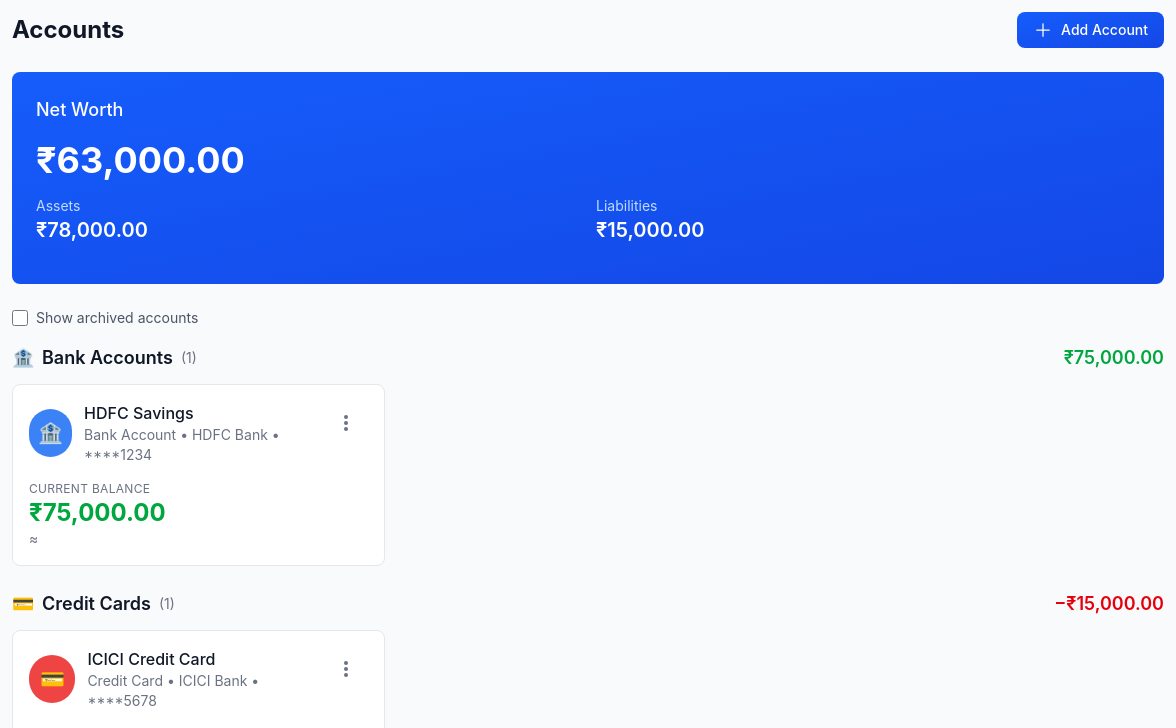
Test: AccountsPage - Account Card Menu › should show menu when clicking three dots
The width and height of the screenshot is (1176, 728).
Expected: the heading "HDFC Savings" is shown, [84,401,194,425]
Click the button without text next to "• ****1234" at (346, 423), box [324,401,368,445]
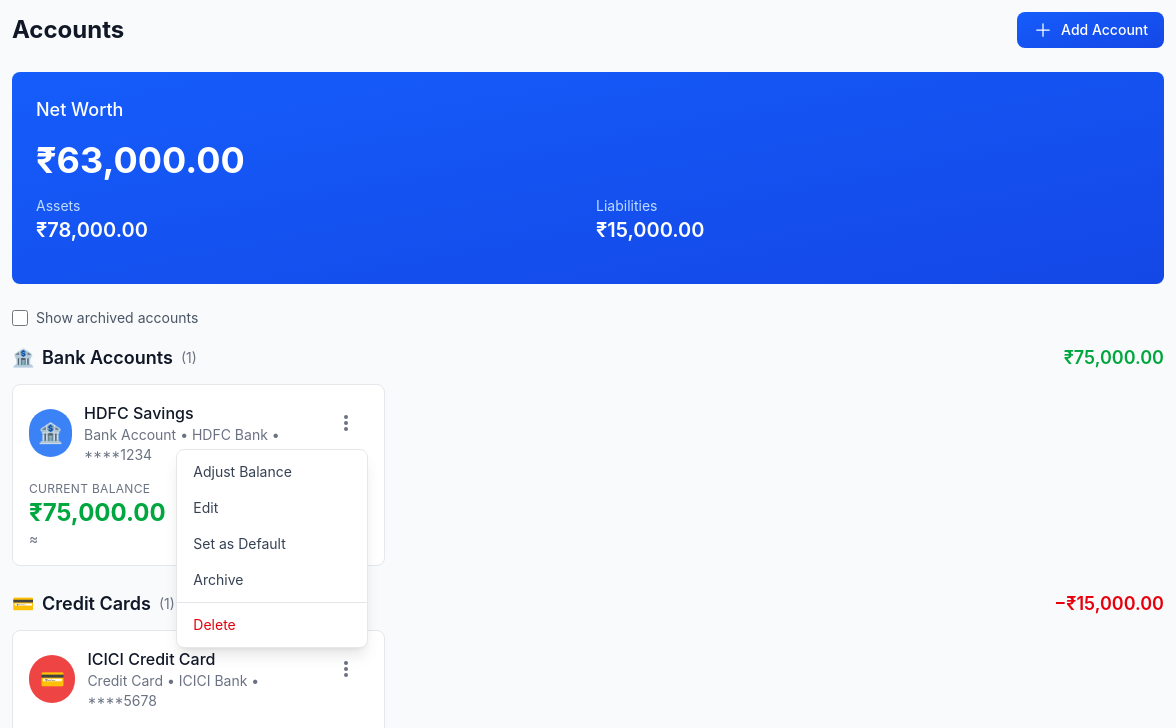
Result: the button "Adjust Balance" is shown at [177,454,367,490]
Result: the button "Edit" is shown at [177,490,367,526]
Result: the button "Archive" is shown at [177,562,367,598]
